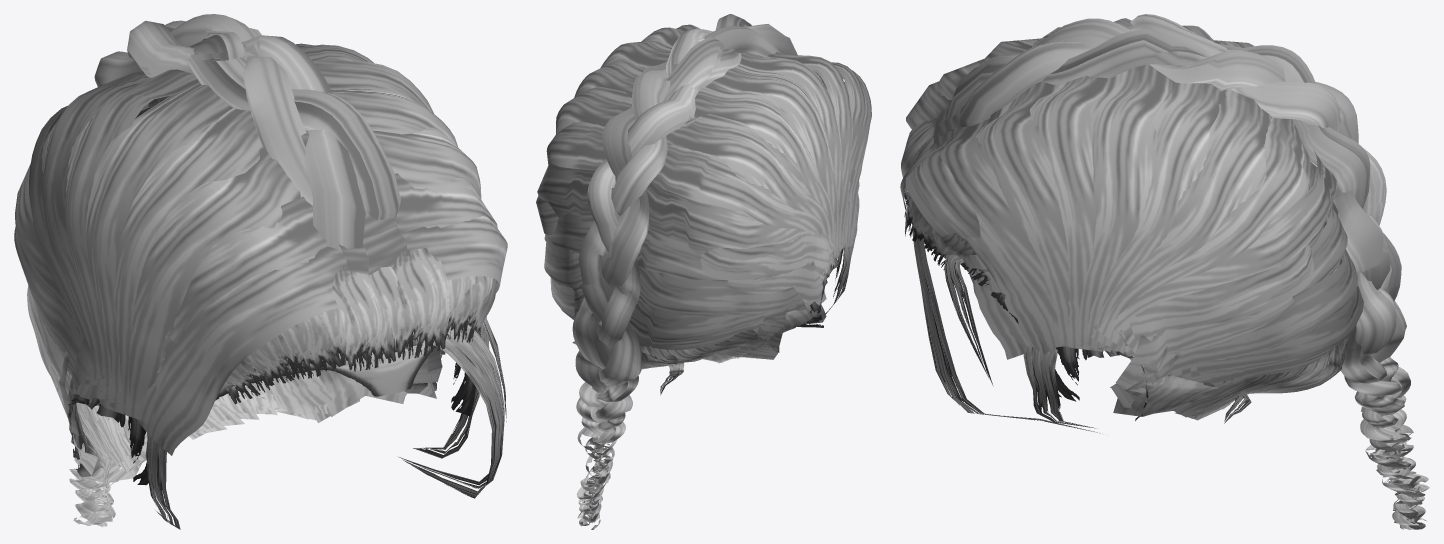
The model's file is hair_ponytail01.glb.
3 renders of one model, left to right at view 1: azimuth 30°, elevation 25°; view 2: azimuth 150°, elevation 25°; view 3: azimuth 270°, elevation 25°, orthographic. The views are drawn at different scales.
Visible parts, largest first — view 1: hair_ponytail01; view 2: hair_ponytail01; view 3: hair_ponytail01.
Boxes of the visible parts, <box> form: hair_ponytail01: <box>14,14,507,529</box>; hair_ponytail01: <box>536,14,871,529</box>; hair_ponytail01: <box>900,14,1429,529</box>.
Size of the model in its own units: 0.1632 by 0.2503 by 0.2386.
Materials: 1 (1 with a texture image).
